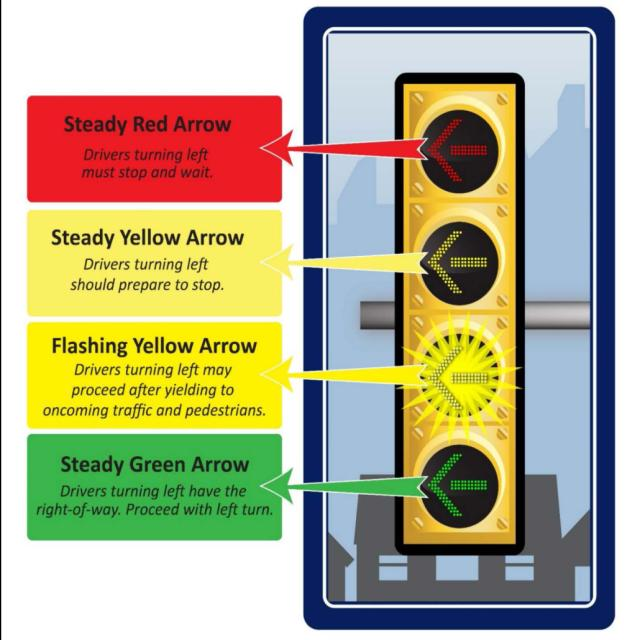green-lights: (413, 442, 507, 530)
red-lights: (406, 105, 520, 191)
yellow-lights: (418, 318, 521, 419)
